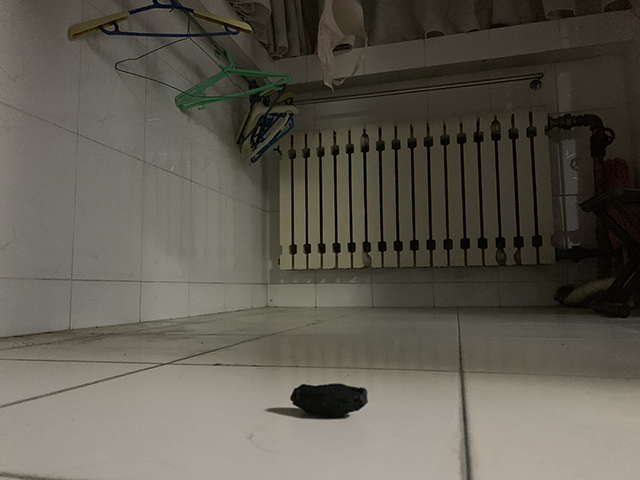feces: (289, 382, 369, 419)
